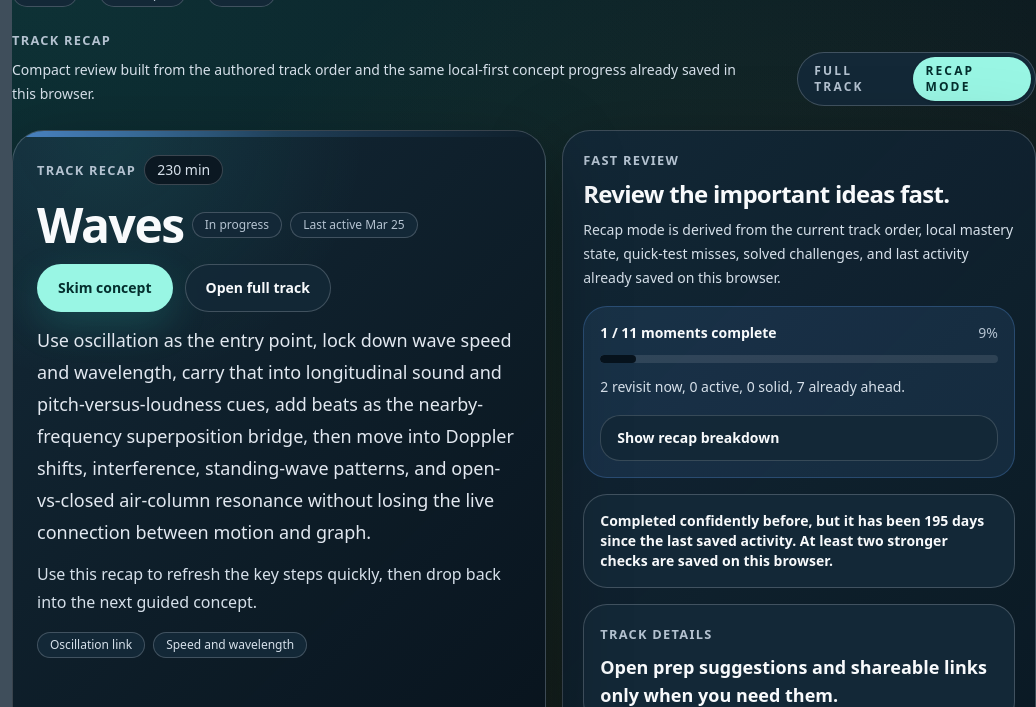
Scenario: StarterTrackDetailPage › renders recap mode with compact review actions derived from local signals
This screenshot has width=1036, height=707.
Click the text "Track details".
click(656, 634)  # box [600,625,712,643]
(page scrolled)
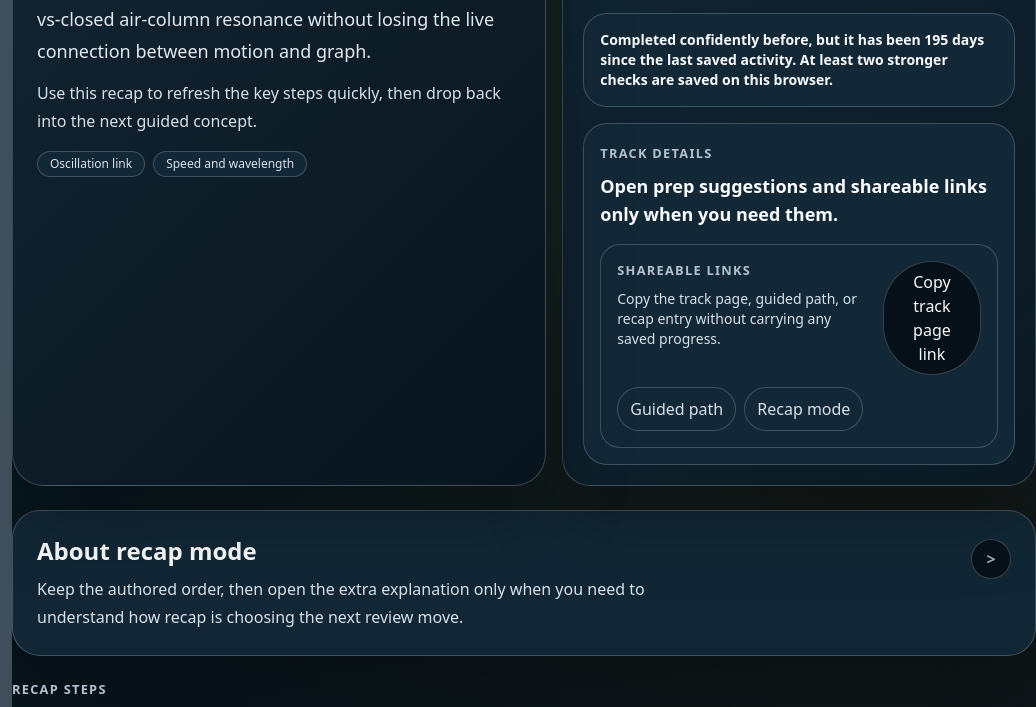
Check: the button with aria-label "copy recap mode link" is shown, box [744,387,863,431]
